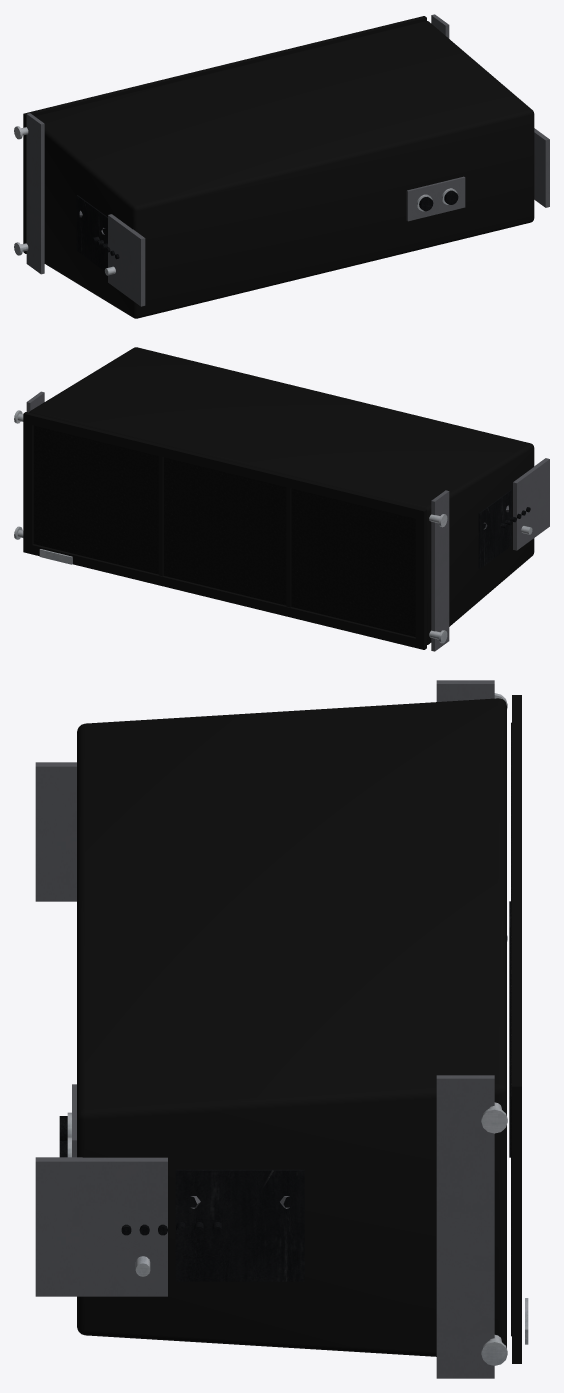
The model's file is line_array_jay8.gltf.
3 views of the same model, one above another, from view 1: azimuth 30°, elevation 25°; view 2: azimuth 150°, elevation 25°; view 3: azimuth 270°, elevation 25° (orthographic). The views are drawn at different scales.
Visible parts, largest first — view 1: line_array_jay8; view 2: line_array_jay8; view 3: line_array_jay8.
Boxes of the visible parts, box(x1,y1,x2,y2) form: line_array_jay8: box(14, 14, 549, 318); line_array_jay8: box(14, 347, 549, 651); line_array_jay8: box(35, 680, 528, 1378).
Size of the model in its own units: 1.19 by 0.4 by 0.596.
5 materials, 5 textured.
